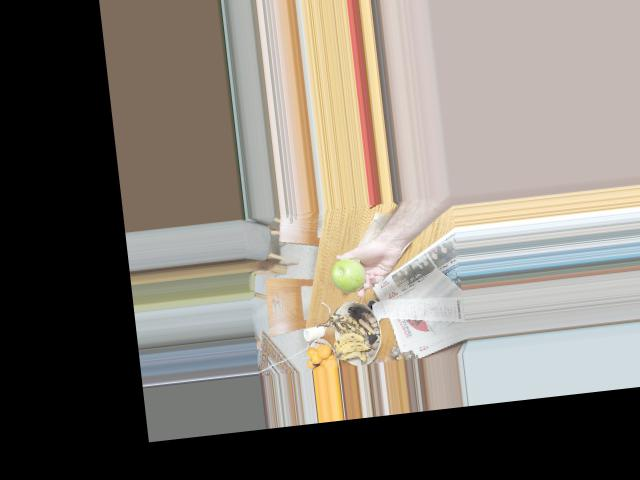apple: (326, 252, 370, 295)
